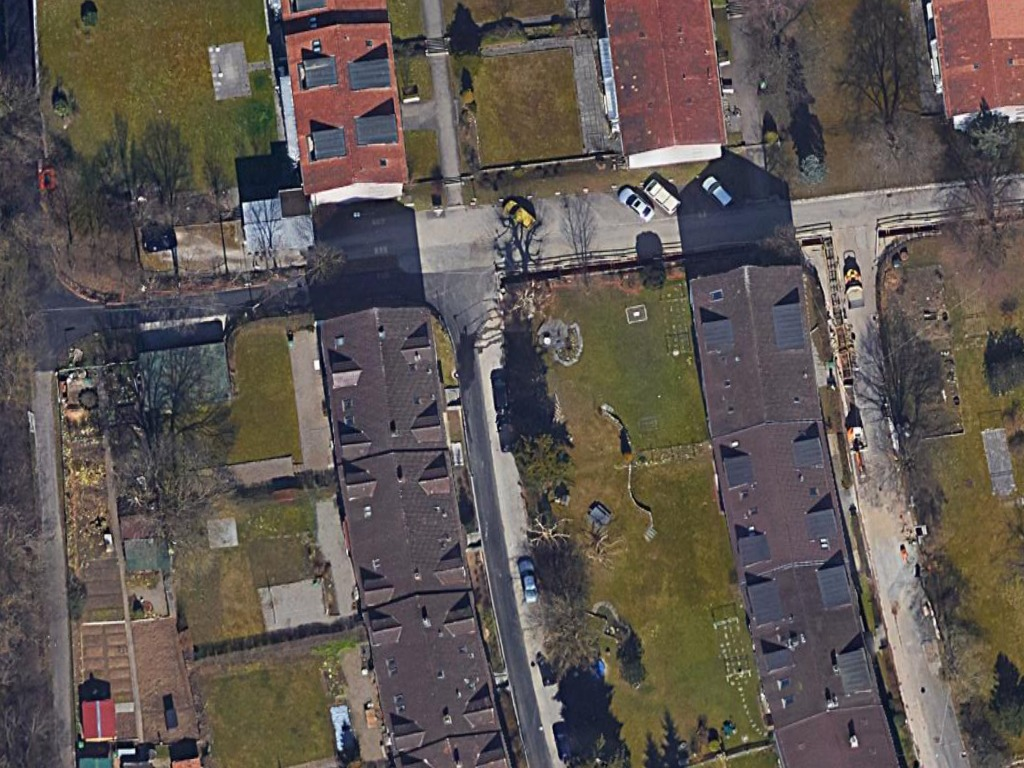car: (615, 182, 657, 224), (499, 197, 541, 232), (698, 174, 736, 212), (515, 554, 539, 608)
